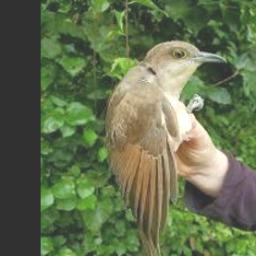Cuckoo: (104, 40, 226, 256)
